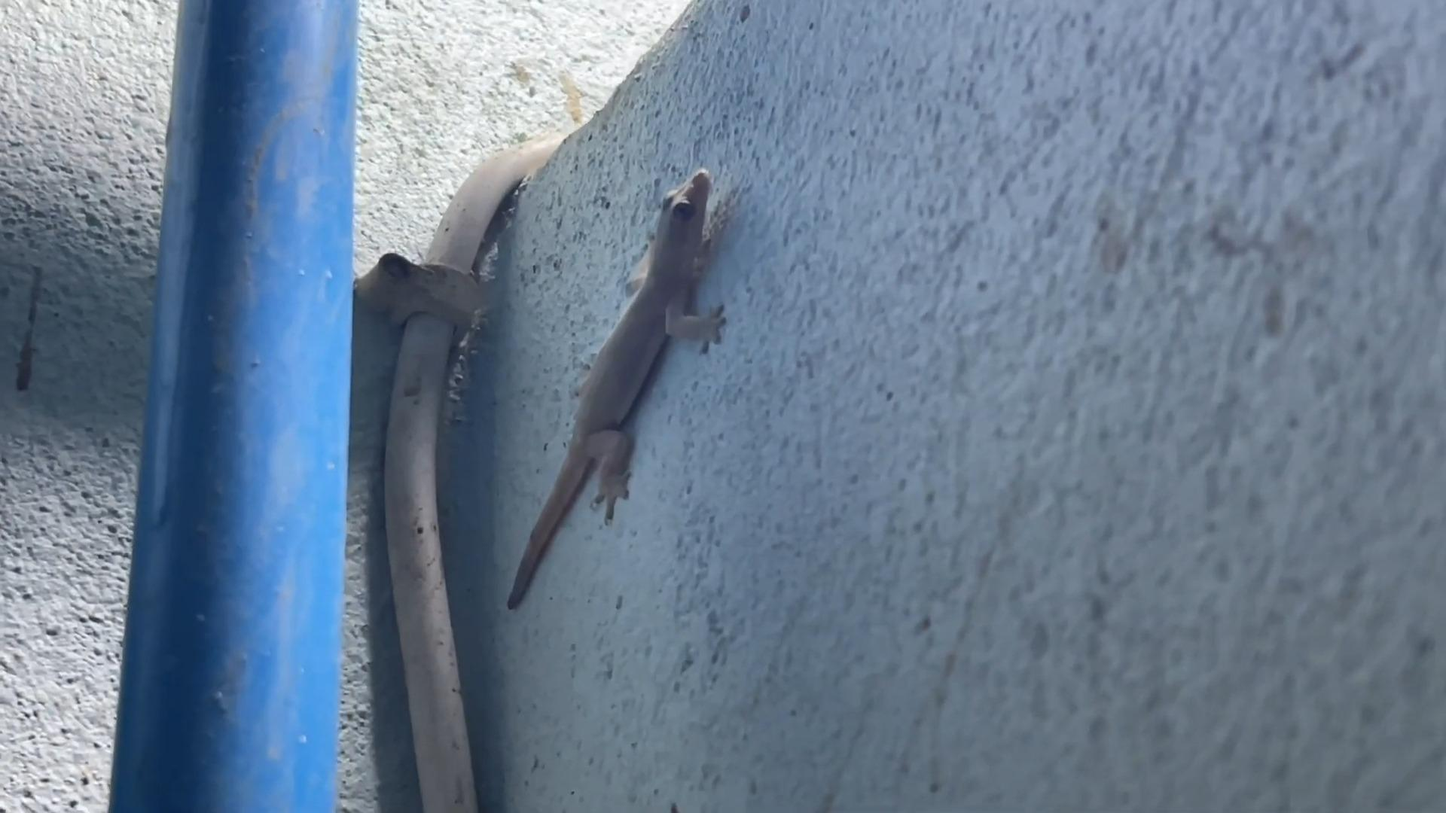lizard: (533, 164, 728, 578)
